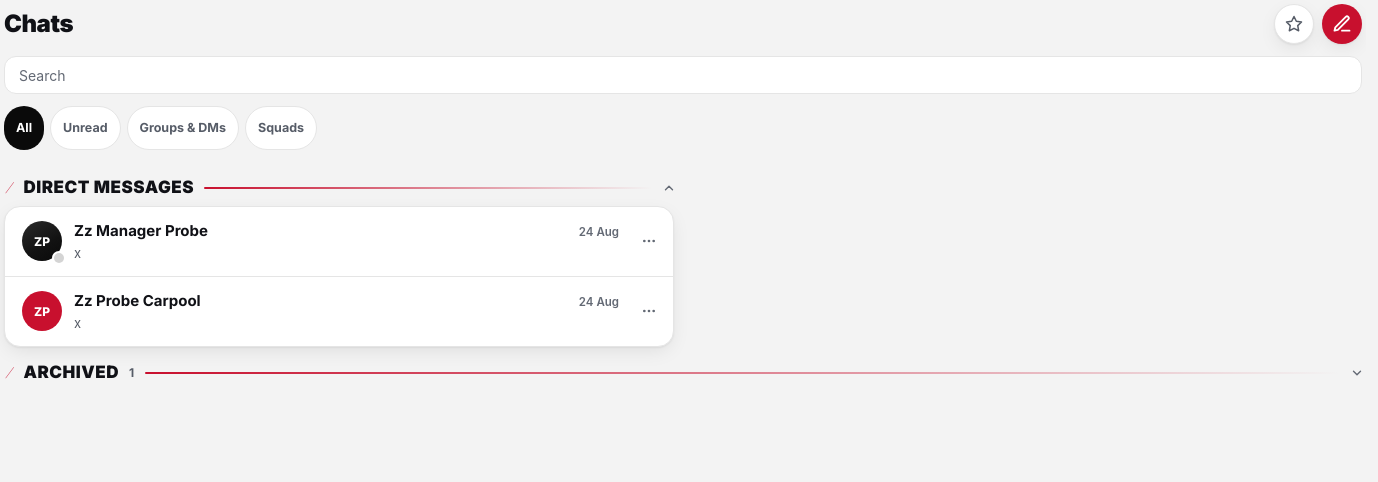
Test: archive › an archived chat leaves its section and the unread strip, and sits folded under Archived
expect the text "Zz Coach Probe" is not shown: met
Click the button with test id "fold-archived" at (685,373), box [6,365,1364,381]
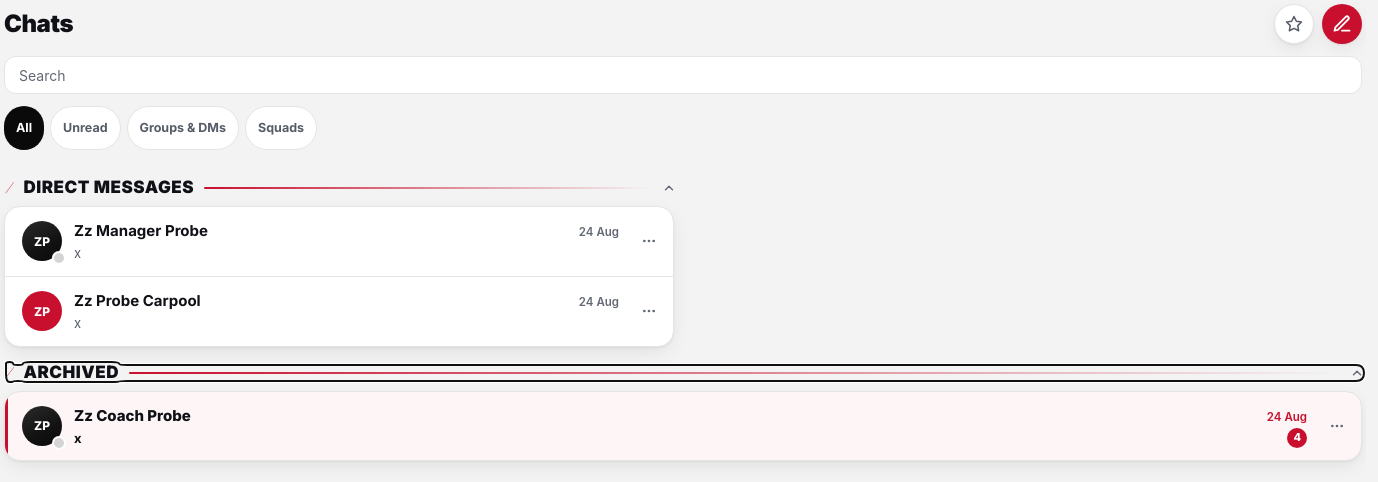
expect the text "Zz Coach Probe" is shown: met, box [74,404,191,428]
